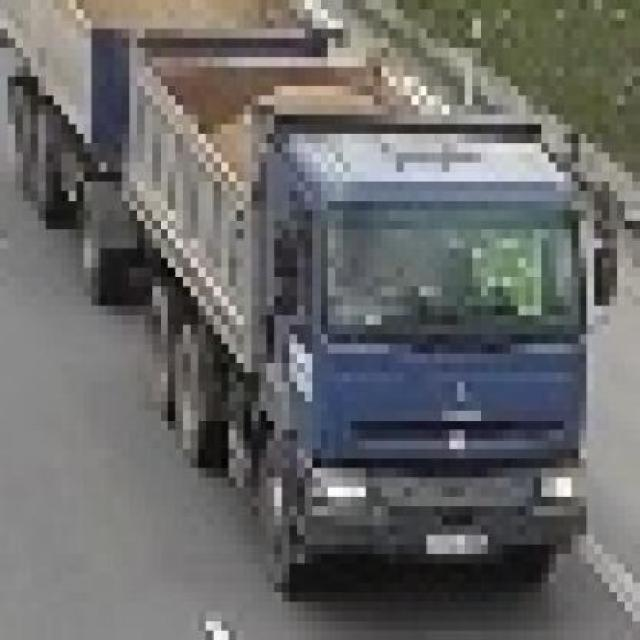truck: (1, 1, 610, 584)
